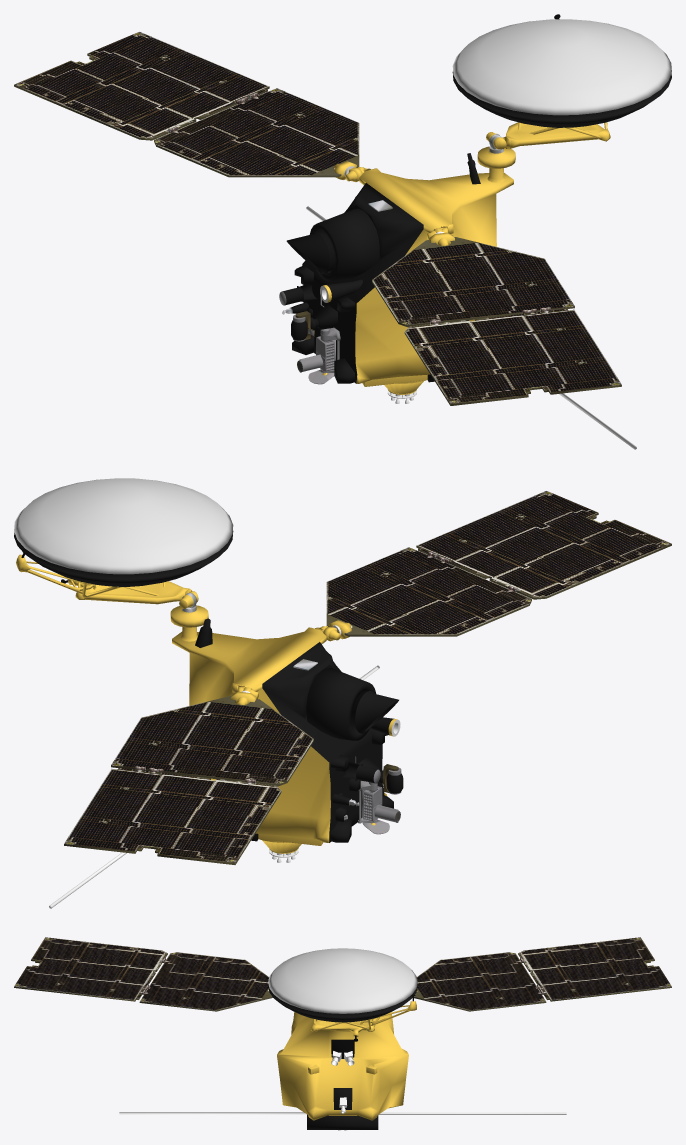
File: mro.glb
3 views of the same model, one above another, from view 1: azimuth 30°, elevation 25°; view 2: azimuth 150°, elevation 25°; view 3: azimuth 270°, elevation 25° (orthographic). The views are drawn at different scales.
Parts seen in each view (by area): view 1: shiny_panel, shiny_panel.001, foil_silver2, foil_gold, black_krinkle, tex_01, tex_01.001, foil_silver; view 2: shiny_panel, shiny_panel.001, foil_silver2, foil_gold, black_krinkle, tex_01, tex_01.001, foil_silver; view 3: shiny_panel.001, shiny_panel, foil_gold, foil_silver2, black_krinkle, foil_silver, tex_01, tex_01.001.
Part boxes in pixels (left/top/right/bottom): shiny_panel: left=14, top=31, right=359, bottom=306; shiny_panel.001: left=372, top=237, right=621, bottom=403; foil_silver2: left=452, top=19, right=671, bottom=115; foil_gold: left=322, top=122, right=610, bottom=394; black_krinkle: left=282, top=72, right=671, bottom=383; tex_01: left=14, top=14, right=560, bottom=384; tex_01.001: left=372, top=281, right=621, bottom=405; foil_silver: left=306, top=166, right=636, bottom=449; shiny_panel: left=64, top=696, right=380, bottom=863; shiny_panel.001: left=326, top=490, right=671, bottom=634; foil_silver2: left=14, top=478, right=233, bottom=574; foil_gold: left=16, top=554, right=397, bottom=853; black_krinkle: left=14, top=531, right=403, bottom=842; tex_01: left=21, top=549, right=401, bottom=864; tex_01.001: left=327, top=513, right=671, bottom=636; foil_silver: left=49, top=665, right=400, bottom=908; shiny_panel.001: left=14, top=937, right=271, bottom=1010; shiny_panel: left=414, top=937, right=671, bottom=1010; foil_gold: left=277, top=990, right=417, bottom=1120; foil_silver2: left=268, top=948, right=417, bottom=1013; black_krinkle: left=268, top=985, right=417, bottom=1129; foil_silver: left=119, top=1051, right=566, bottom=1130; tex_01: left=353, top=953, right=671, bottom=1041; tex_01.001: left=14, top=953, right=272, bottom=1011.
Size of what is drawn, in the model's own units: 6.92 by 5.03 by 13.6.
Materials: 6 (2 with a texture image).
